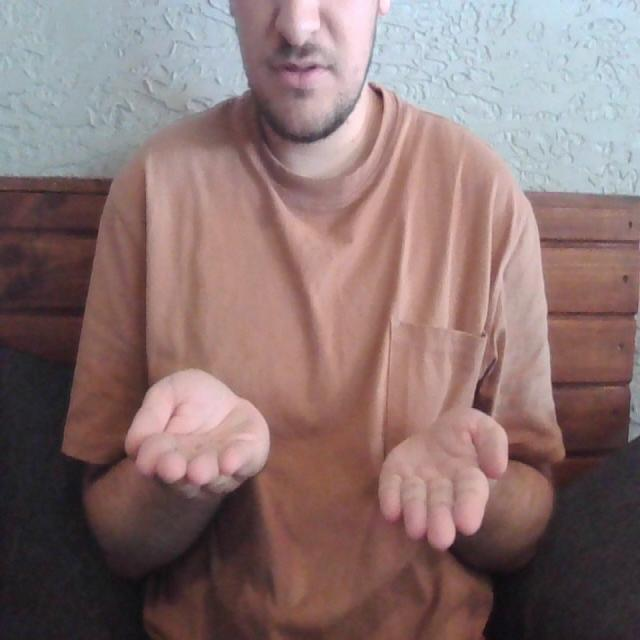Evet: (122, 364, 513, 554)
